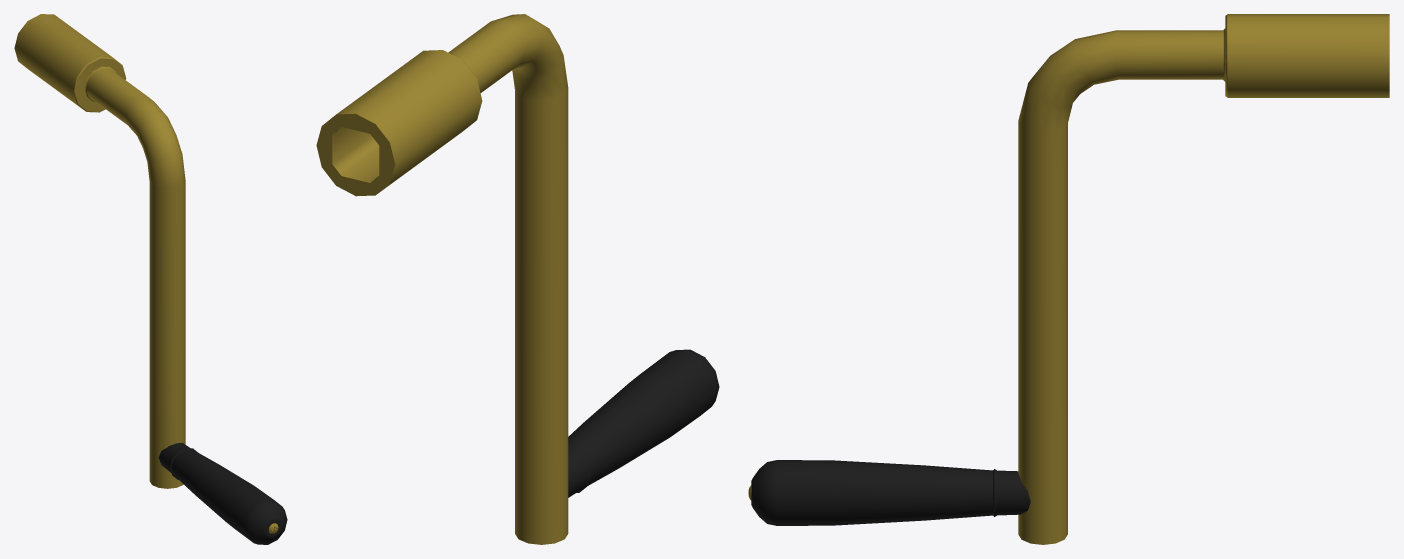
The model's file is LBS_STICK3.fbx.
3 views of the same model, side by side, from view 1: azimuth 30°, elevation 25°; view 2: azimuth 150°, elevation 25°; view 3: azimuth 270°, elevation 25° (orthographic). The views are drawn at different scales.
Parts seen in each view (by area): view 1: LPS_STICK3; view 2: LPS_STICK3; view 3: LPS_STICK3.
Boxes of the visible parts, bbox=[...] form: LPS_STICK3: bbox=[14, 14, 287, 544]; LPS_STICK3: bbox=[316, 14, 719, 544]; LPS_STICK3: bbox=[748, 14, 1389, 544].
Size of the model in its own units: 0.034 by 0.2299 by 0.2587.
1 material, 1 textured.
